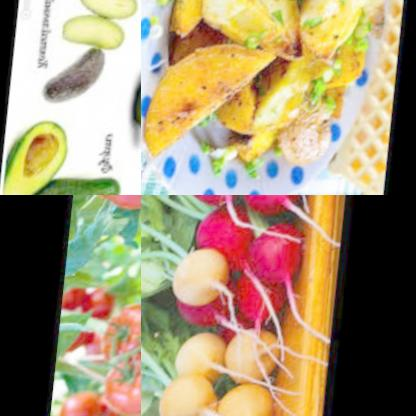avocado: (48, 0, 129, 104), (1, 99, 83, 195), (20, 162, 130, 195)
potato: (141, 0, 401, 190)
rediska: (165, 243, 235, 322), (189, 207, 259, 284), (243, 223, 310, 295), (226, 329, 296, 395), (168, 334, 237, 394), (236, 280, 300, 336), (158, 373, 229, 416), (175, 299, 239, 336), (215, 387, 288, 416), (236, 195, 305, 219), (180, 195, 248, 219)
tomato: (64, 279, 125, 330), (96, 304, 141, 363), (100, 356, 141, 416), (57, 388, 111, 416)
